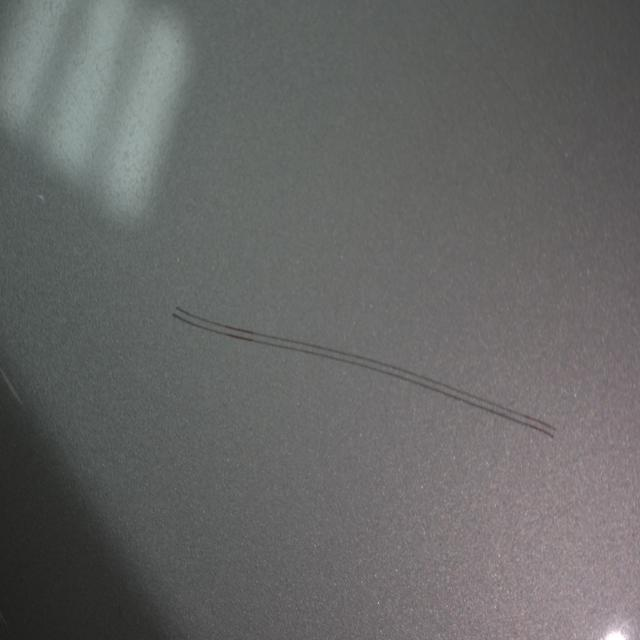scratch: (170, 294, 559, 447)
